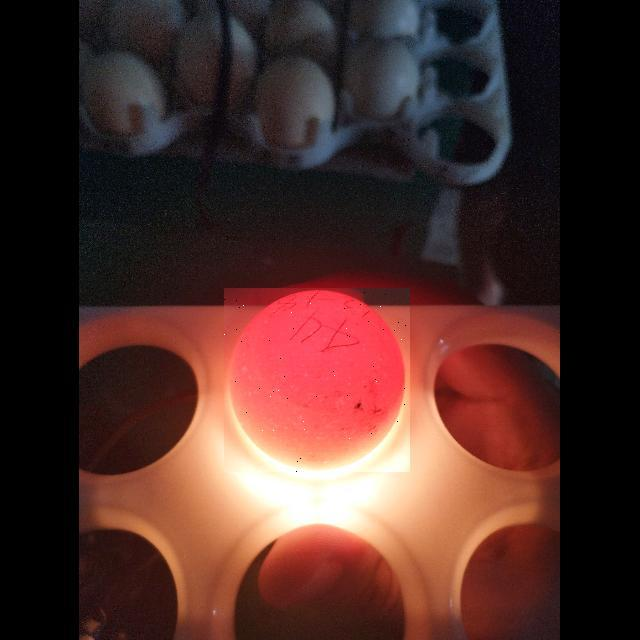Infertile: (224, 288, 410, 472)
